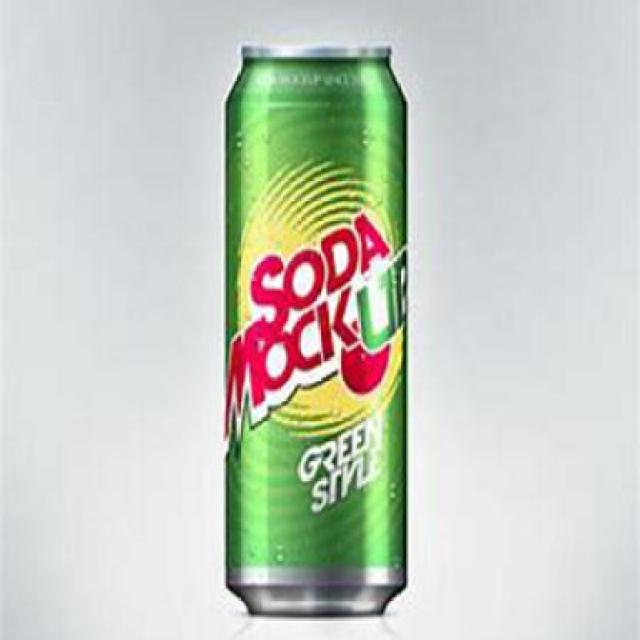Metal: (224, 33, 410, 617)
